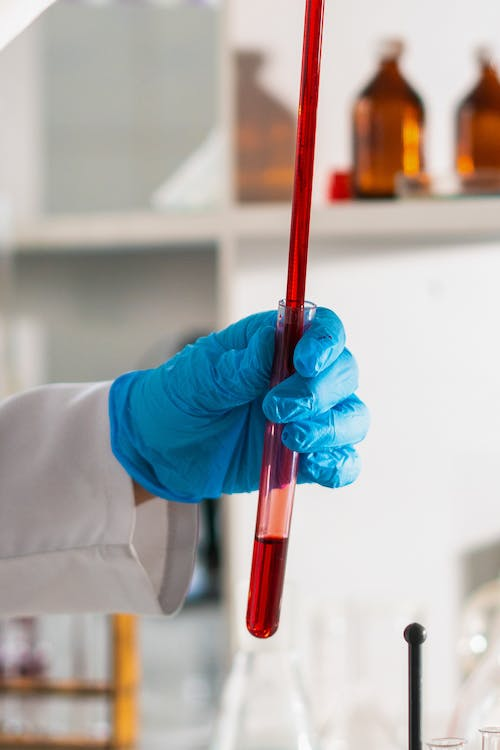blood: (243, 0, 327, 640)
